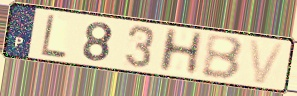3: (123, 24, 158, 71)
8: (82, 21, 114, 63)
B: (200, 34, 246, 82)
H: (156, 27, 207, 76)
L: (39, 12, 68, 61)
V: (247, 38, 287, 86)
